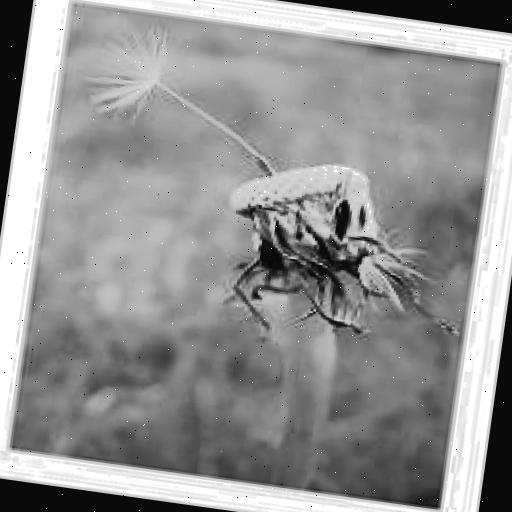dandelion: (71, 20, 178, 120)
